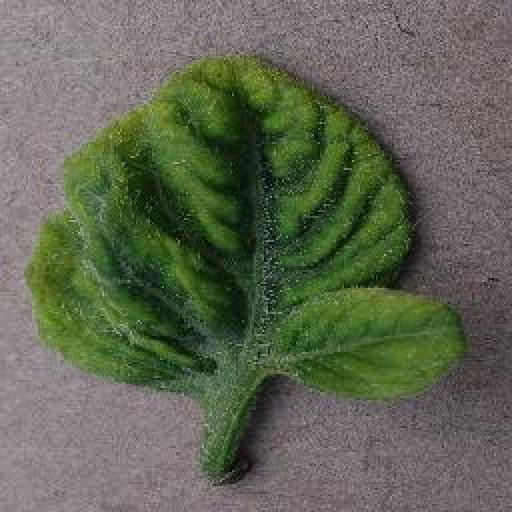disease_tomato: (30, 51, 462, 400)
